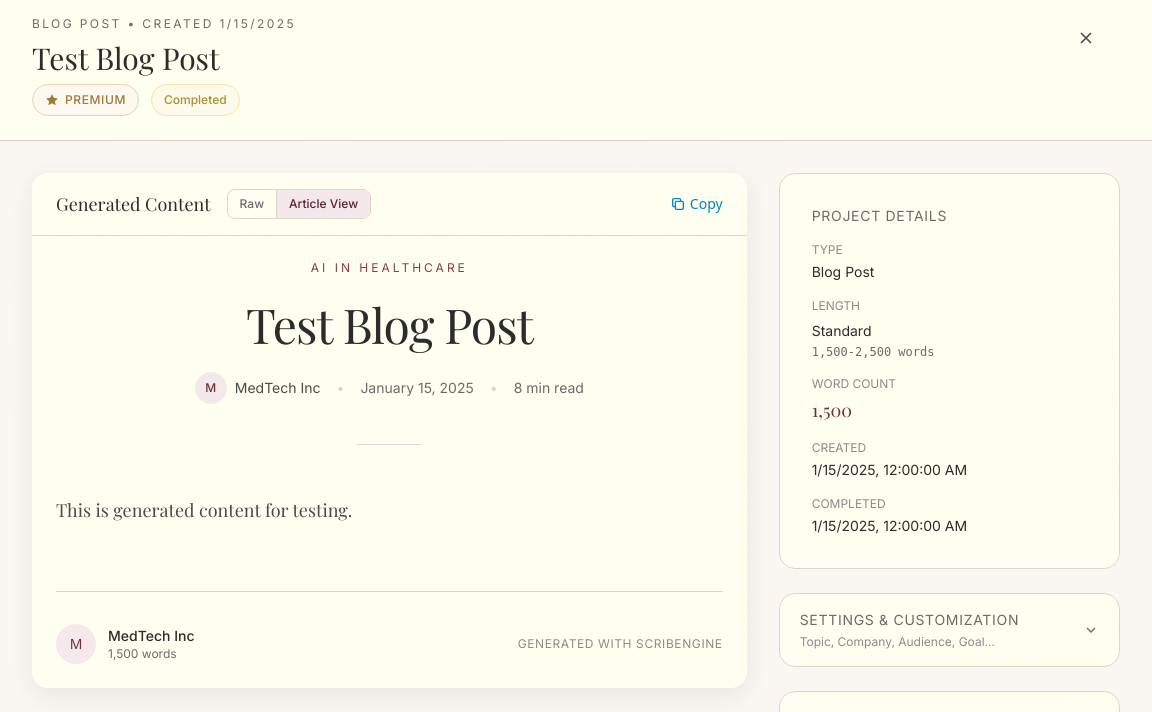
Test case: Project Settings Panel › Style Categories › shows "custom" badge for categories with non-default values
Click the heading "Settings & Customization" at (909, 620), box [800,610,1019,630]
(page scrolled)
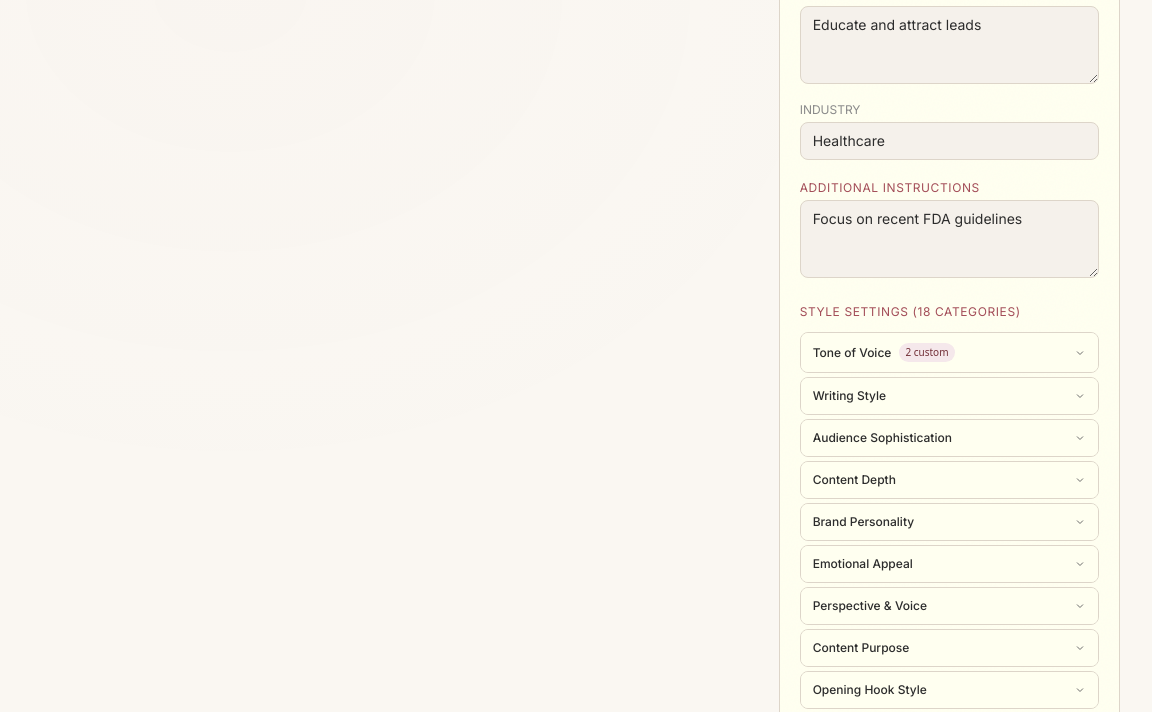
Result: the text "2 custom" is shown at [899,343,954,362]
